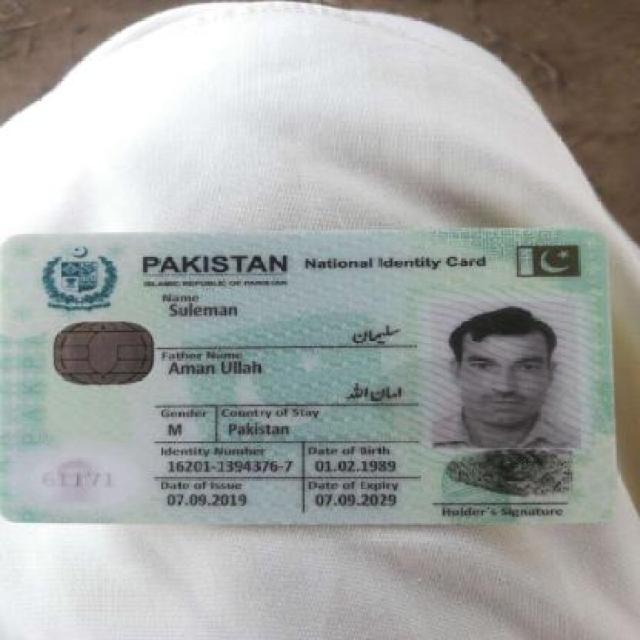Front: (4, 224, 622, 534)
